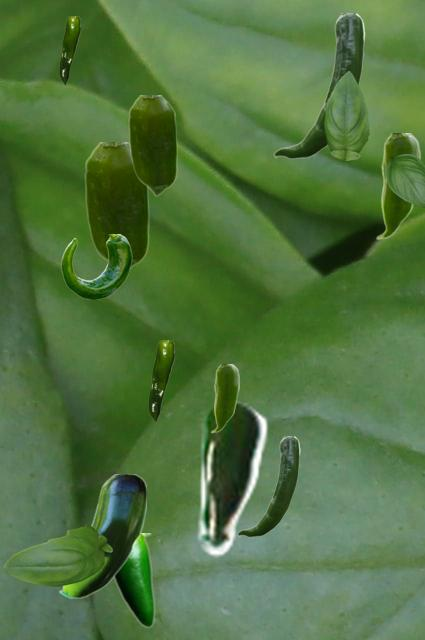green_chili: (273, 13, 364, 158), (193, 398, 268, 556), (58, 474, 145, 598), (84, 142, 148, 269), (237, 436, 299, 536), (128, 95, 176, 195), (375, 133, 419, 239), (61, 234, 131, 298), (113, 533, 154, 627), (148, 340, 173, 421), (210, 364, 238, 432), (59, 16, 79, 84)
